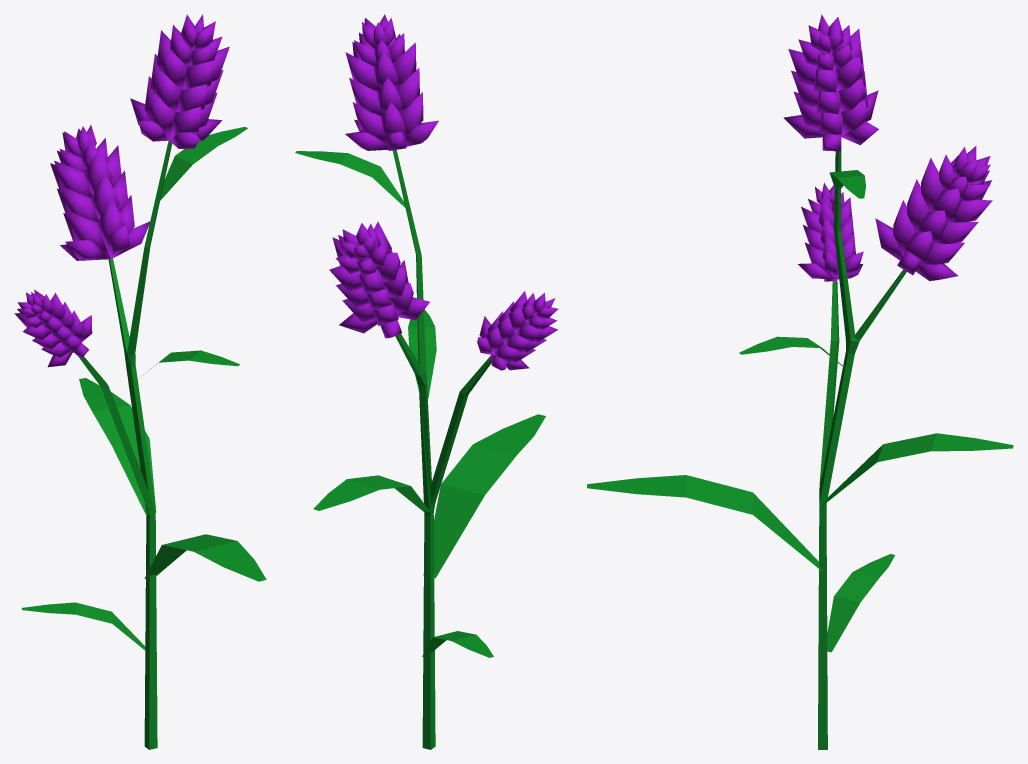
The model's file is Flower Violet.fbx.
3 renders of one model, left to right at view 1: azimuth 30°, elevation 25°; view 2: azimuth 150°, elevation 25°; view 3: azimuth 270°, elevation 25°, orthographic. The views are drawn at different scales.
Visible parts, largest first — view 1: Flower Violet; view 2: Flower Violet; view 3: Flower Violet.
Boxes of the visible parts, left/top/right/bottom form: Flower Violet: left=14, top=14, right=266, bottom=749; Flower Violet: left=295, top=14, right=558, bottom=749; Flower Violet: left=587, top=14, right=1013, bottom=749.
Bounding box in the file's own units: 60.39 × 169 × 86.88.
Materials: 1 (1 with a texture image).
